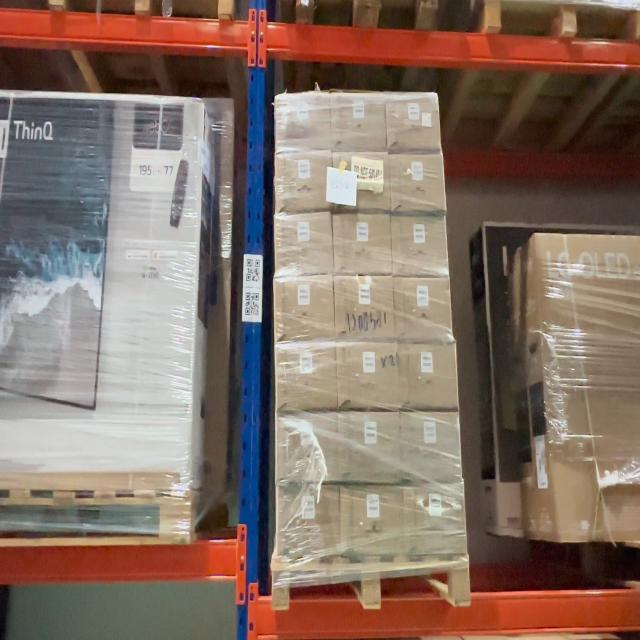box: (338, 414, 399, 481), (405, 484, 463, 553), (342, 488, 403, 553), (278, 414, 338, 478), (278, 489, 338, 553), (402, 414, 459, 480), (278, 344, 334, 408), (336, 276, 392, 338), (340, 344, 396, 404), (400, 344, 454, 406), (275, 213, 331, 271), (276, 280, 332, 338), (337, 214, 389, 272), (398, 278, 448, 338), (332, 94, 384, 150), (278, 153, 330, 208), (333, 155, 388, 206), (388, 94, 439, 148), (394, 218, 444, 273), (276, 99, 329, 149), (393, 154, 442, 207)
